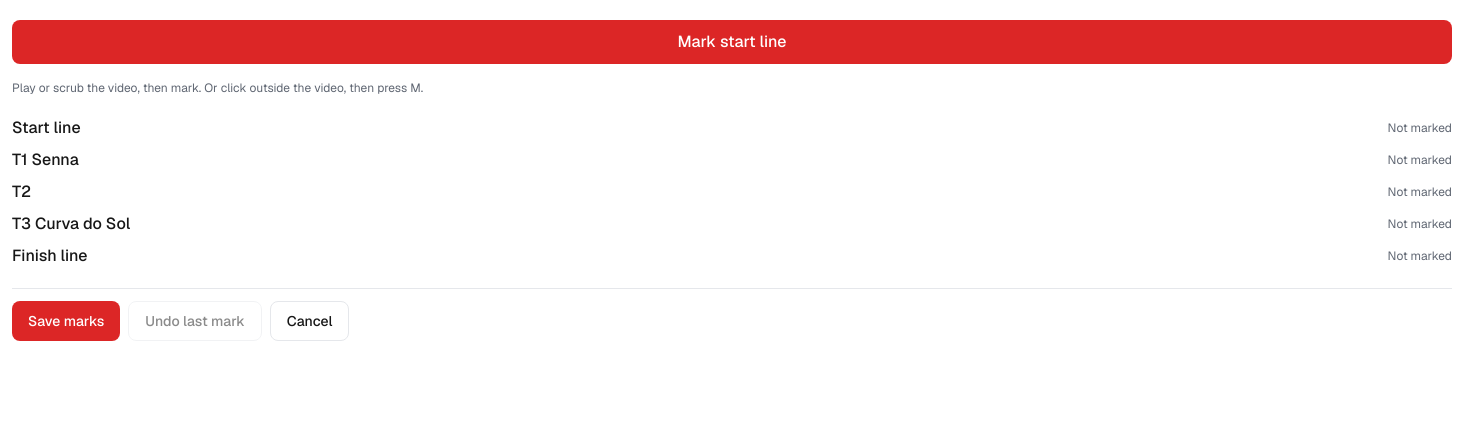
Test case: MarkCorners › advances through start, each corner in lap order, then the finish
The image size is (1464, 448).
Click the button "Mark start line".
click(732, 42)  # box [12,20,1452,64]
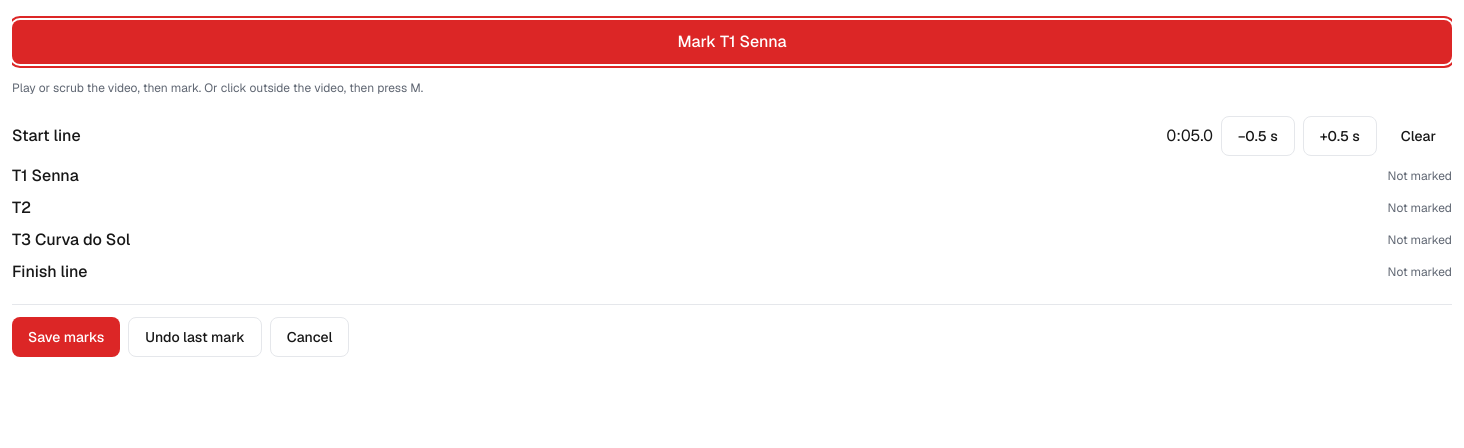
Now the button "Mark T1 Senna" is shown
Click the button "Mark T1 Senna".
click(732, 42)  # box [12,20,1452,64]
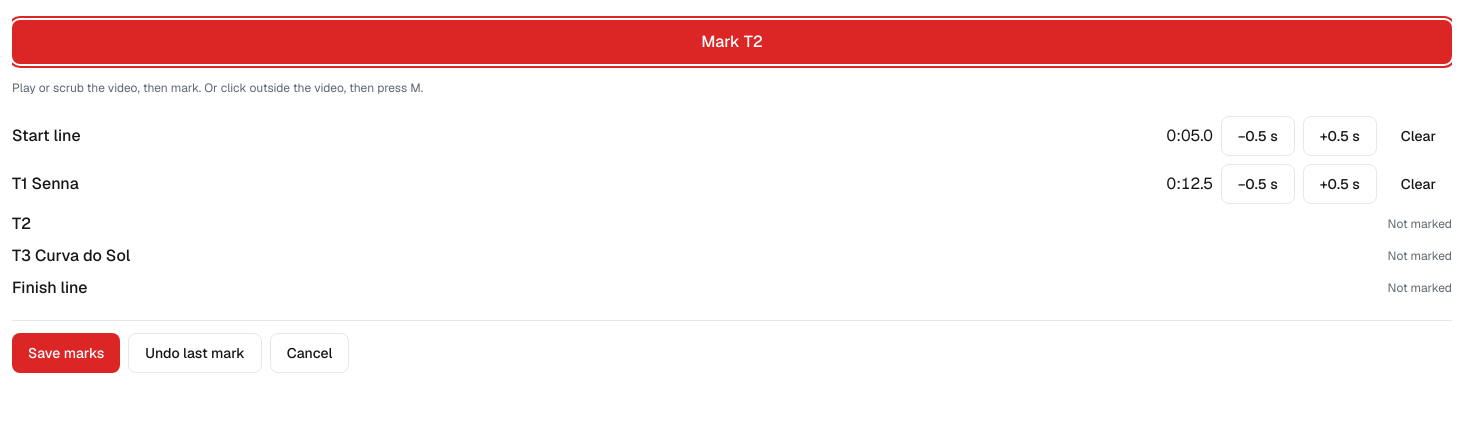
Now the button "Mark T2" is shown
Click the button "Mark T2".
click(732, 42)  # box [12,20,1452,64]
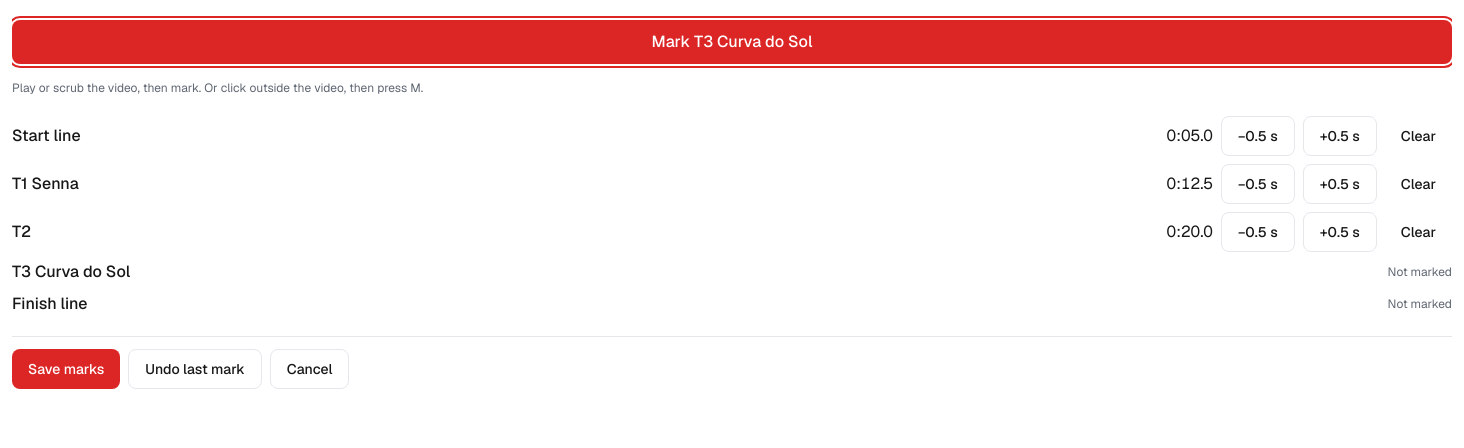
Now the button "Mark T3 Curva do Sol" is shown
Click the button "Mark T3 Curva do Sol".
click(732, 42)  # box [12,20,1452,64]
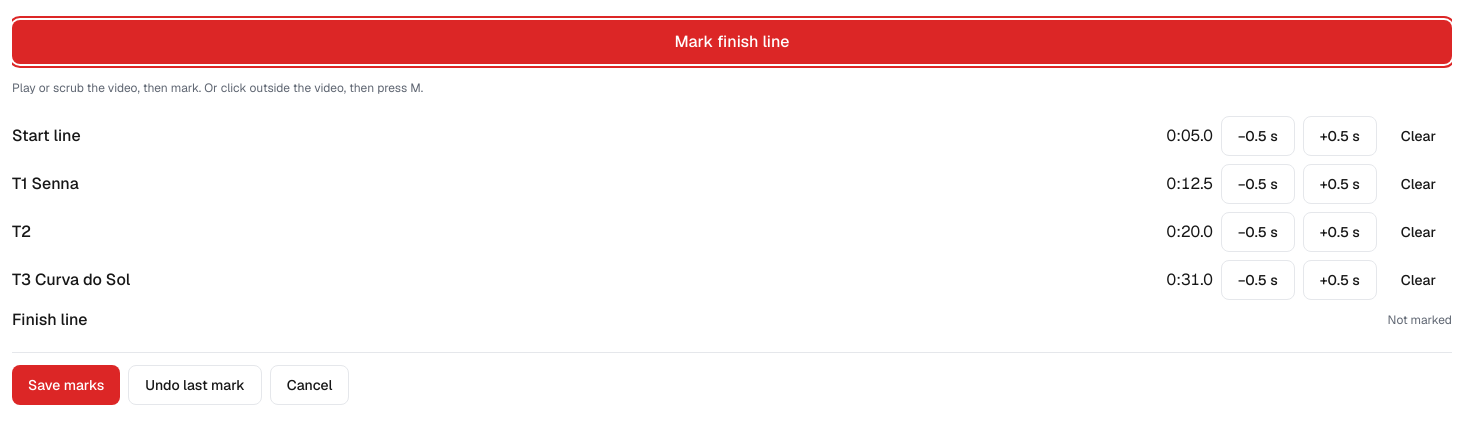
Now the button "Mark finish line" is shown
Click the button "Mark finish line".
click(732, 42)  # box [12,20,1452,64]
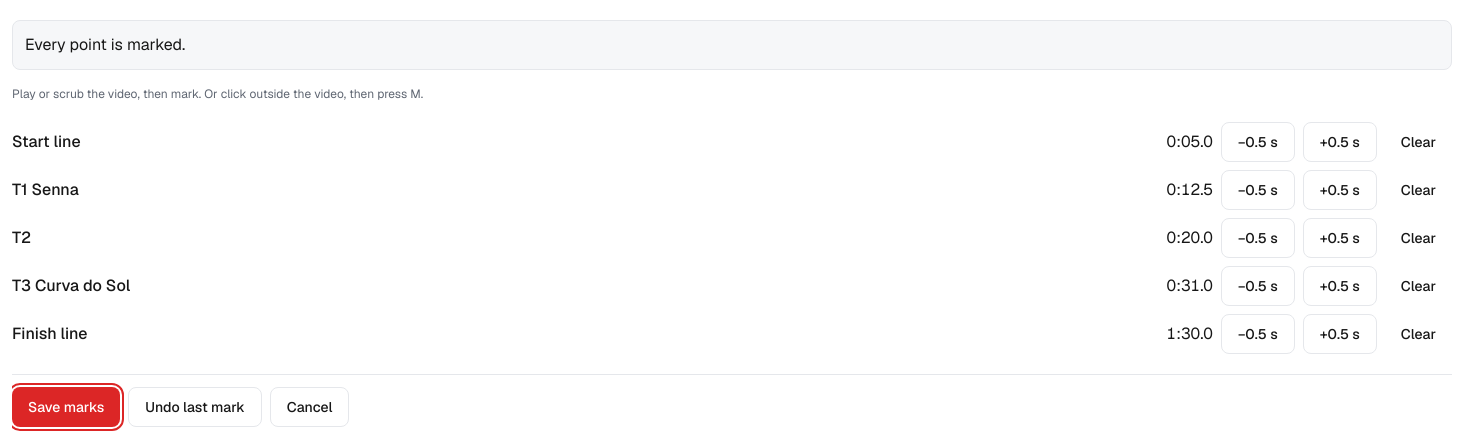
Now the text "Every point is marked." is shown, box [12,20,1452,70]
